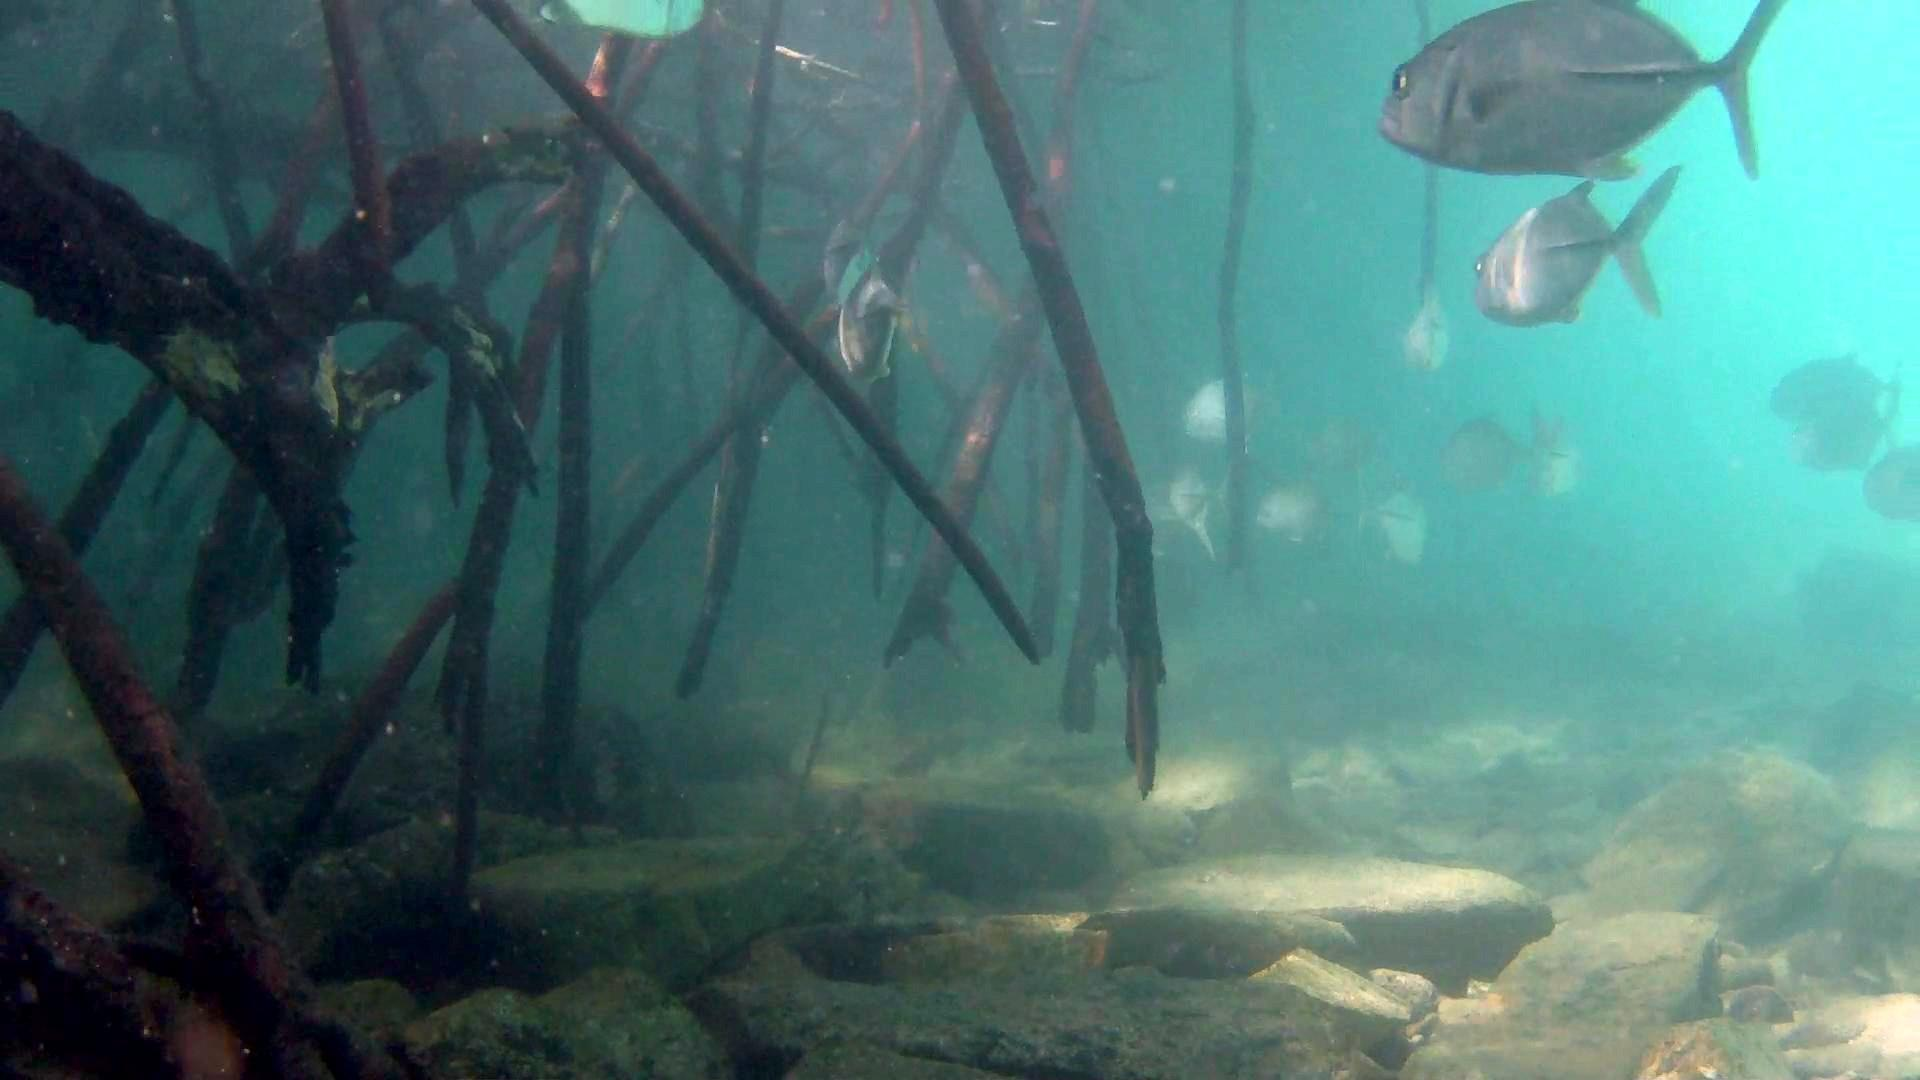caranx: (1358, 0, 1784, 198), (1470, 156, 1691, 331)
